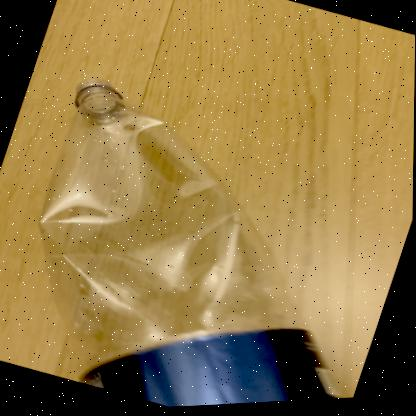Plastic: (39, 80, 341, 409)
